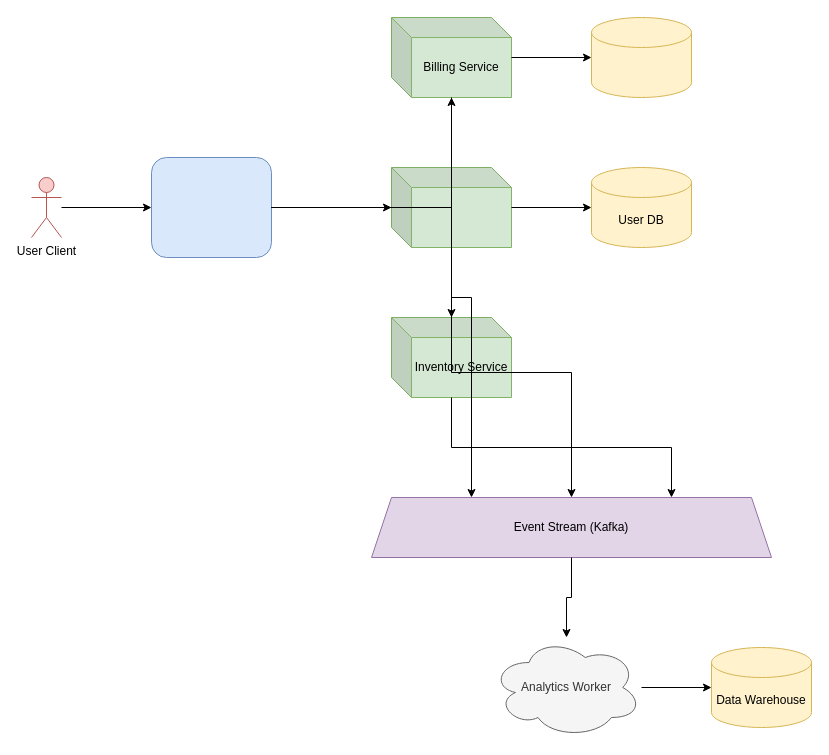
This 829x755 diagram has some shape labels left out. The shapes that lost their labels are listed below. From the top down, each one's box as (x1, y1, x2, y2) in pixels, then its label:
(590, 16, 692, 98): Billing DB
(150, 156, 272, 258): API Gateway
(390, 166, 512, 248): User Service
